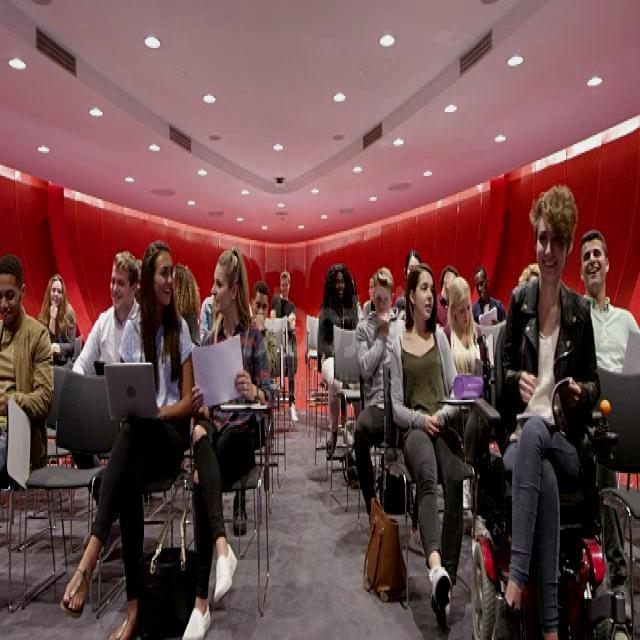Looking away: (210, 247, 240, 318), (148, 243, 175, 310), (410, 262, 434, 327), (0, 270, 24, 326), (452, 286, 472, 332), (252, 284, 268, 327), (474, 264, 488, 303)
Looking forward: (536, 215, 566, 282), (580, 232, 610, 292), (110, 260, 135, 312), (372, 272, 390, 326), (48, 278, 64, 310), (335, 266, 345, 300), (278, 272, 290, 296)
